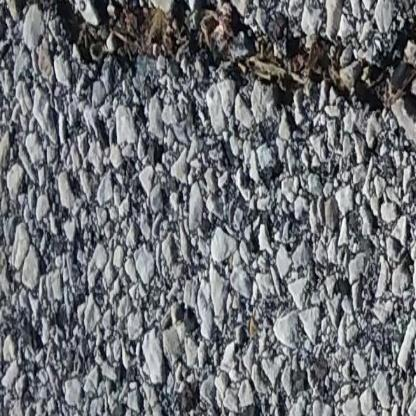Cracks: (3, 0, 416, 116)
